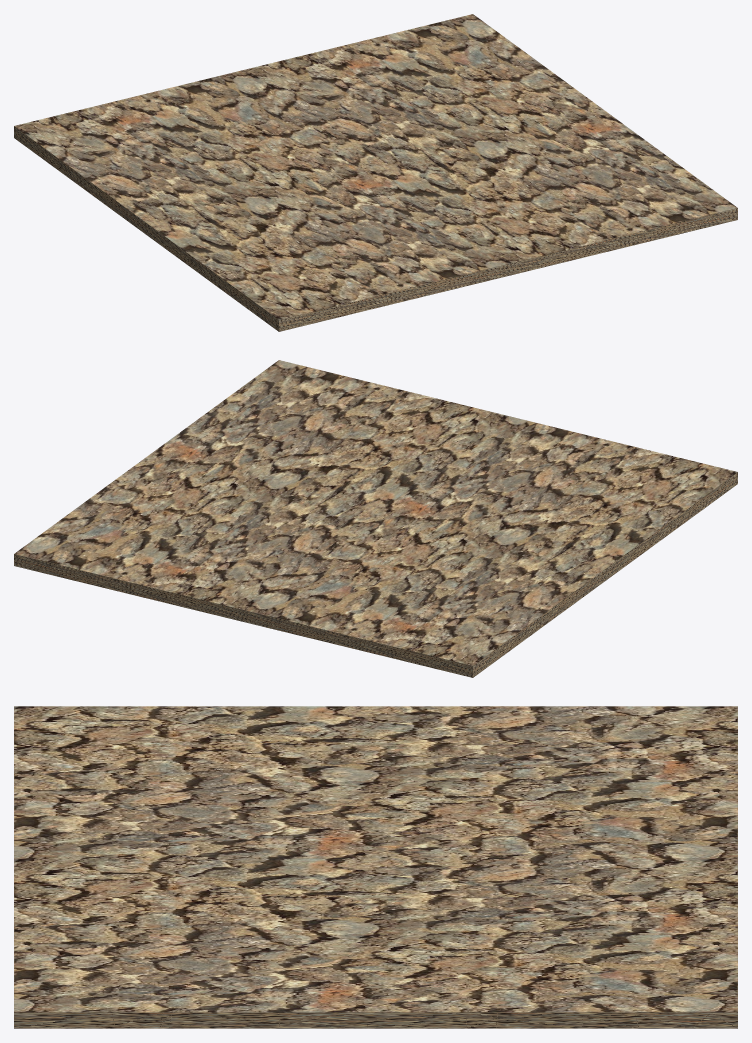
Rendered from Block_Square_200_root.fbx.
3 views of the same model, one above another, from view 1: azimuth 30°, elevation 25°; view 2: azimuth 150°, elevation 25°; view 3: azimuth 270°, elevation 25° (orthographic). The views are drawn at different scales.
Parts seen in each view (by area): view 1: Block_Square_200_sh_31, Block_Square_200_sh_149, Block_Square_200_sh_176, Block_Square_200_sh_170, Block_Square_200_sh_85, Block_Square_200_sh_48, Block_Square_200_sh_152, Block_Square_200_sh_102, Block_Square_200_sh_188, Block_Square_200_sh_24, Block_Square_200_sh_130, Block_Square_200_sh_106 (+102 smaller); view 2: Block_Square_200_sh_31, Block_Square_200_sh_149, Block_Square_200_sh_176, Block_Square_200_sh_85, Block_Square_200_sh_152, Block_Square_200_sh_188, Block_Square_200_sh_24, Block_Square_200_sh_106, Block_Square_200_sh_130, Block_Square_200_sh_105, Block_Square_200_sh_143, Block_Square_200_sh_174 (+104 smaller); view 3: Block_Square_200_sh_188, Block_Square_200_sh_31, Block_Square_200_sh_149, Block_Square_200_sh_105, Block_Square_200_sh_47, Block_Square_200_sh_184, Block_Square_200_sh_152, Block_Square_200_sh_176, Block_Square_200_sh_8, Block_Square_200_sh_78, Block_Square_200_sh_24, Block_Square_200_sh_106 (+160 smaller).
Part boxes in pixels (x1,y1,x2,y2): Block_Square_200_sh_31: (546,201,622,253); Block_Square_200_sh_149: (200,242,298,289); Block_Square_200_sh_176: (157,209,220,266); Block_Square_200_sh_170: (516,231,600,266); Block_Square_200_sh_85: (228,282,313,316); Block_Square_200_sh_48: (618,207,682,248); Block_Square_200_sh_152: (391,33,470,68); Block_Square_200_sh_102: (303,281,364,322); Block_Square_200_sh_188: (556,113,640,145); Block_Square_200_sh_24: (349,206,419,235); Block_Square_200_sh_130: (221,264,329,294); Block_Square_200_sh_106: (456,73,508,112); Block_Square_200_sh_31: (347,389,420,429); Block_Square_200_sh_149: (572,493,680,540); Block_Square_200_sh_176: (544,536,649,572); Block_Square_200_sh_85: (648,470,718,520); Block_Square_200_sh_152: (89,532,139,585); Block_Square_200_sh_188: (149,431,216,466); Block_Square_200_sh_24: (453,465,520,498); Block_Square_200_sh_106: (133,499,217,525); Block_Square_200_sh_130: (613,473,687,525); Block_Square_200_sh_105: (52,512,136,535); Block_Square_200_sh_143: (49,538,94,585); Block_Square_200_sh_174: (425,491,489,516); Block_Square_200_sh_188: (275,976,375,1028); Block_Square_200_sh_31: (14,902,142,949); Block_Square_200_sh_149: (158,706,229,766); Block_Square_200_sh_105: (558,967,638,1028); Block_Square_200_sh_47: (496,977,582,1028); Block_Square_200_sh_184: (169,997,279,1028); Block_Square_200_sh_152: (596,947,737,985); Block_Square_200_sh_176: (256,706,369,751); Block_Square_200_sh_8: (14,991,114,1028); Block_Square_200_sh_78: (367,994,466,1028); Block_Square_200_sh_24: (164,802,261,842); Block_Square_200_sh_106: (458,940,573,983).
Size of the model in its own units: 1000 by 25 by 1000.
1 material, 1 textured.
